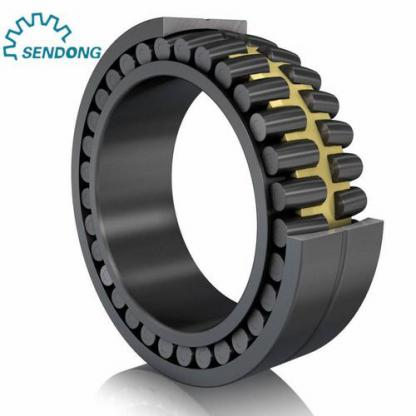FOD: (61, 11, 389, 393)
